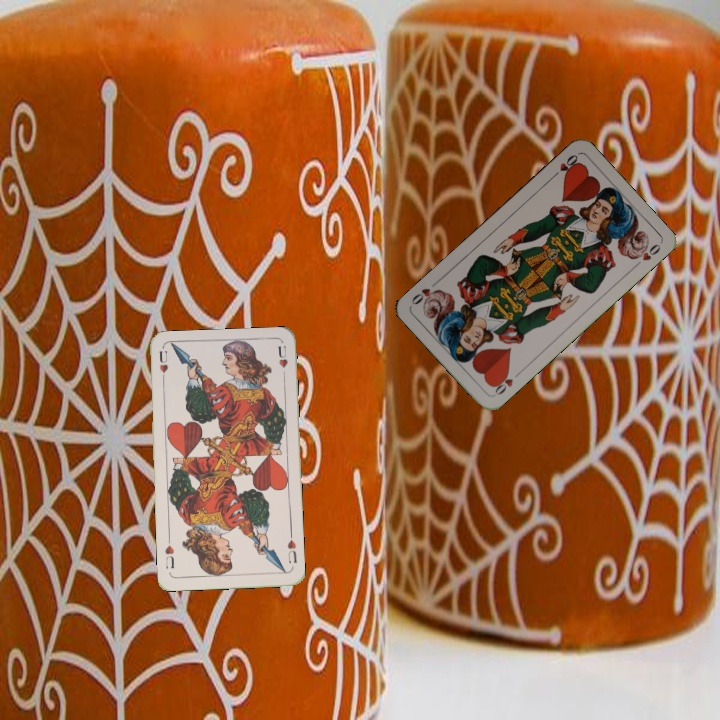HO: (489, 367, 523, 398), (547, 150, 581, 181)
HU: (155, 347, 171, 386), (283, 530, 299, 565)
